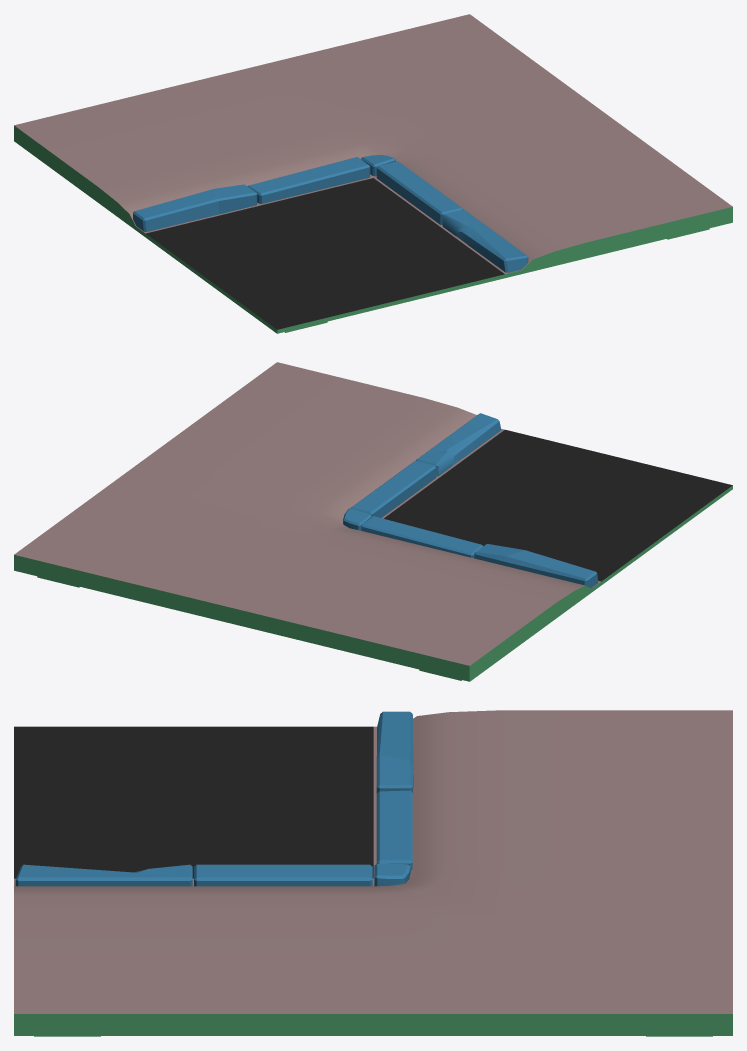
The model's file is sidewalk corn in parted lod0.FBX.
3 renders of one model, top to bottom at view 1: azimuth 30°, elevation 25°; view 2: azimuth 150°, elevation 25°; view 3: azimuth 270°, elevation 25°, orthographic. The views are drawn at different scales.
Visible parts, largest first — view 1: Plane033, Group013; view 2: Plane033, Group013; view 3: Plane033, Group013.
Part boxes in pixels (x1,y1,x2,y2): Plane033: [14, 14, 732, 278]; Group013: [145, 178, 504, 333]; Plane033: [14, 362, 601, 681]; Group013: [384, 429, 732, 585]; Plane033: [14, 710, 732, 1036]; Group013: [14, 726, 373, 878].
Bounding box in the file's own units: 3 × 0.2346 × 3.
